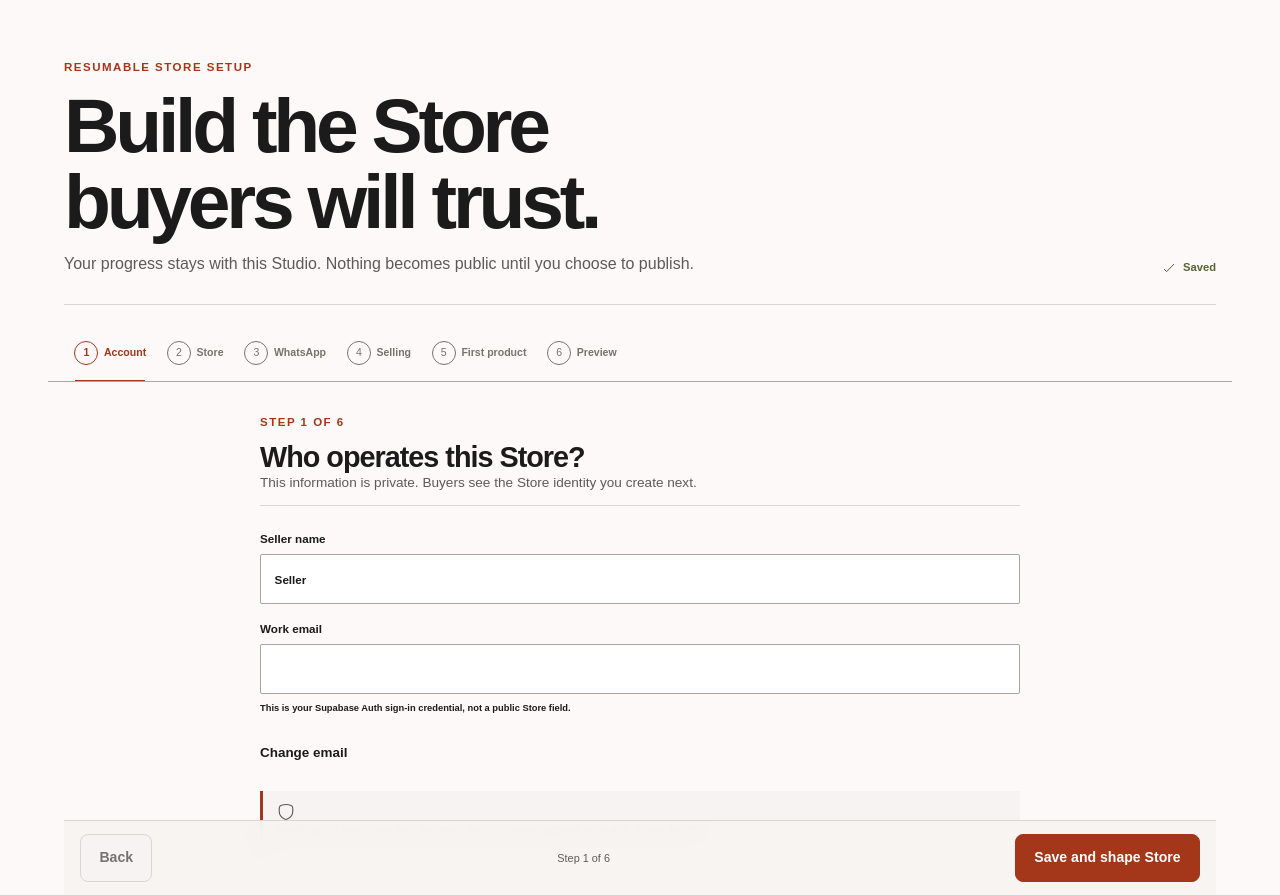
Test case: seller onboarding › progresses through named setup steps using canonical reference selectors
The image size is (1280, 895).
Expected: the heading "Who operates this Store?" is shown, [260,441,585,473]
Click the button "Save and shape Store" at point(1107, 858), box [1015,834,1200,882]
(page scrolled)
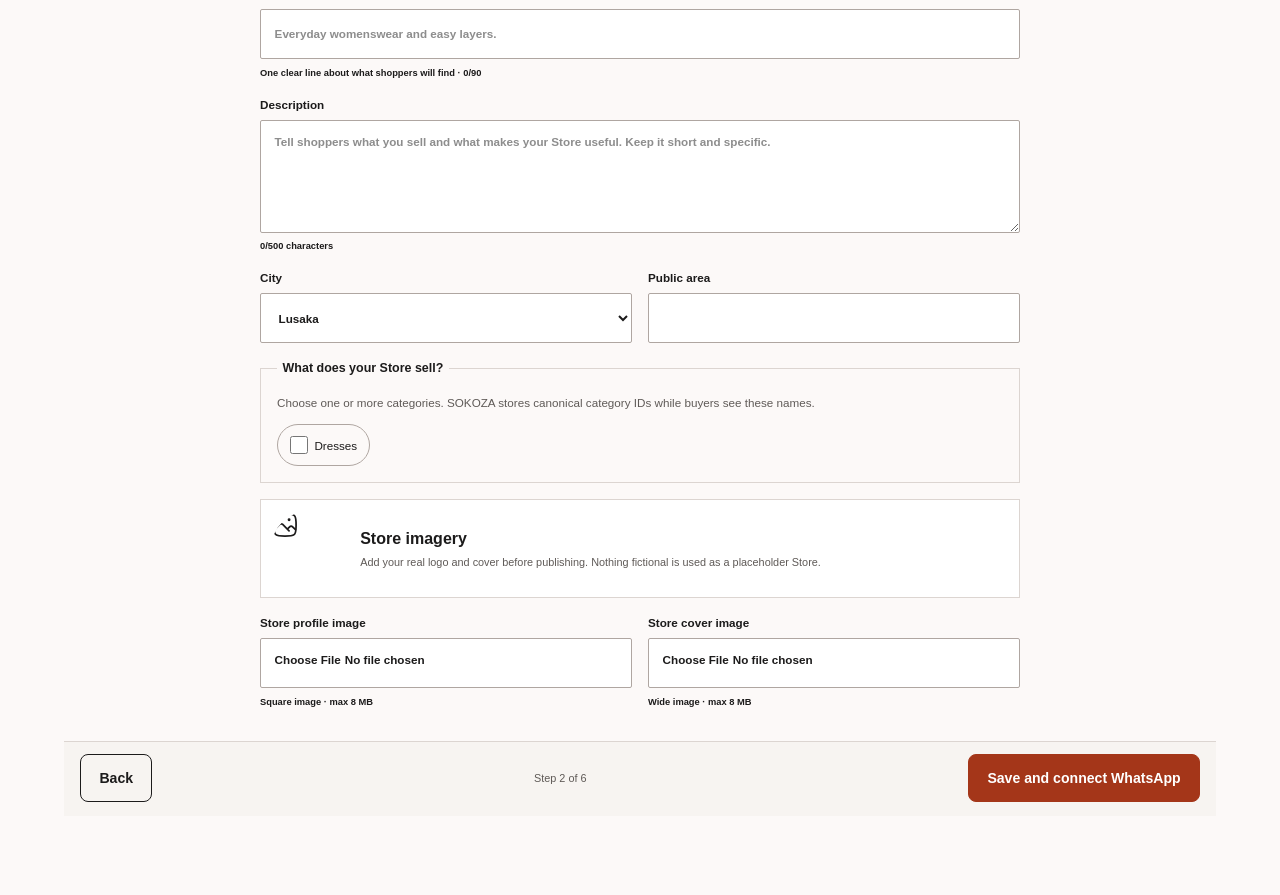
Result: the dropdown labelled "City" is shown at [260,293,632,343]
Result: the checkbox labelled "Dresses" is shown at [290,436,308,454]
